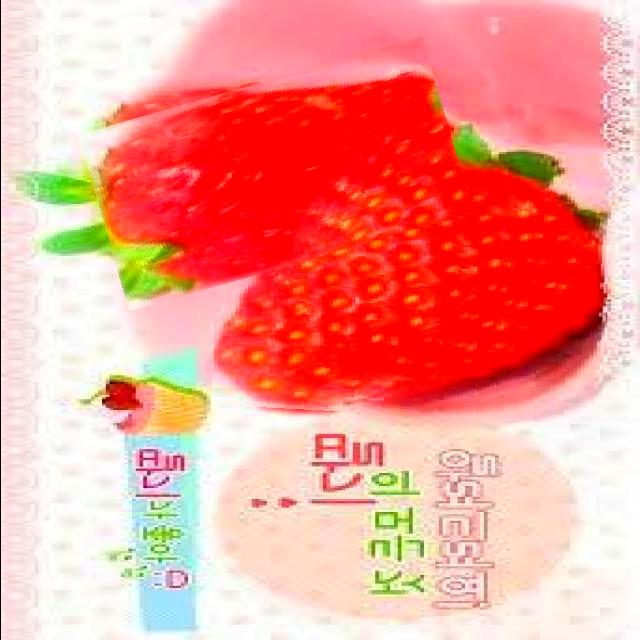strawberry: (213, 154, 609, 420), (87, 59, 463, 288)
